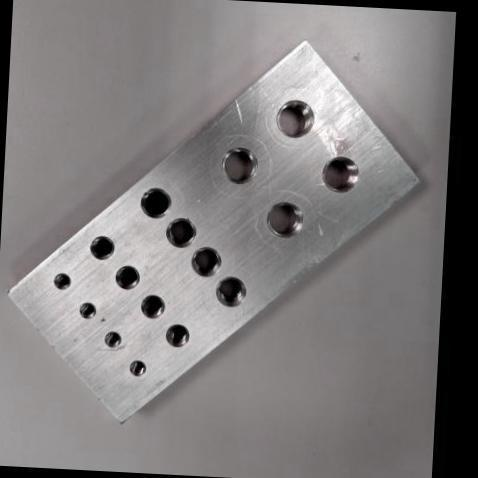hole: (274, 98, 316, 140), (218, 145, 260, 187), (318, 154, 361, 195), (264, 200, 305, 240), (138, 186, 174, 220), (164, 215, 198, 250), (213, 275, 248, 308), (189, 245, 223, 278), (114, 264, 142, 291), (88, 235, 116, 262), (139, 293, 166, 320), (164, 322, 190, 348), (78, 300, 98, 320), (51, 271, 71, 291), (102, 330, 122, 349), (128, 360, 146, 378)
